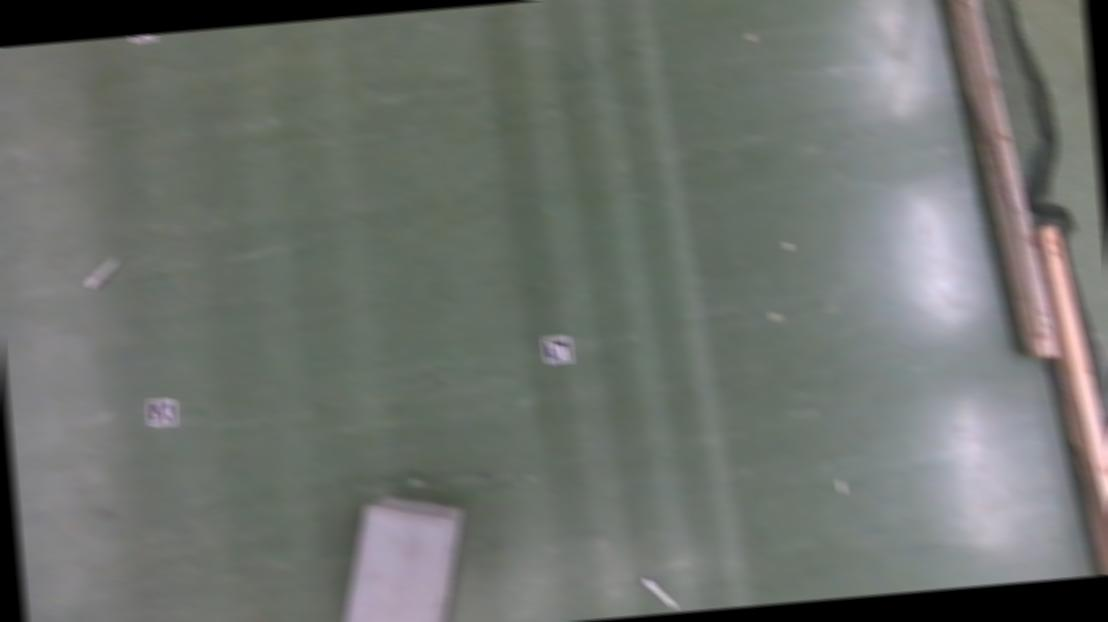probes: (643, 576, 676, 613), (84, 258, 120, 290)
rako: (328, 493, 474, 622)
